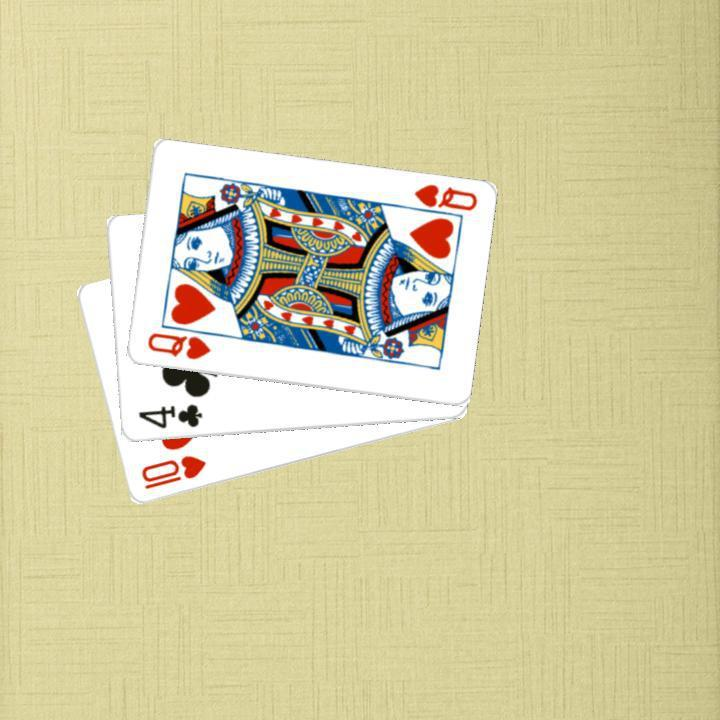10: (136, 451, 208, 492)
4: (133, 400, 204, 432)
Q: (399, 180, 479, 221), (142, 329, 212, 362)
